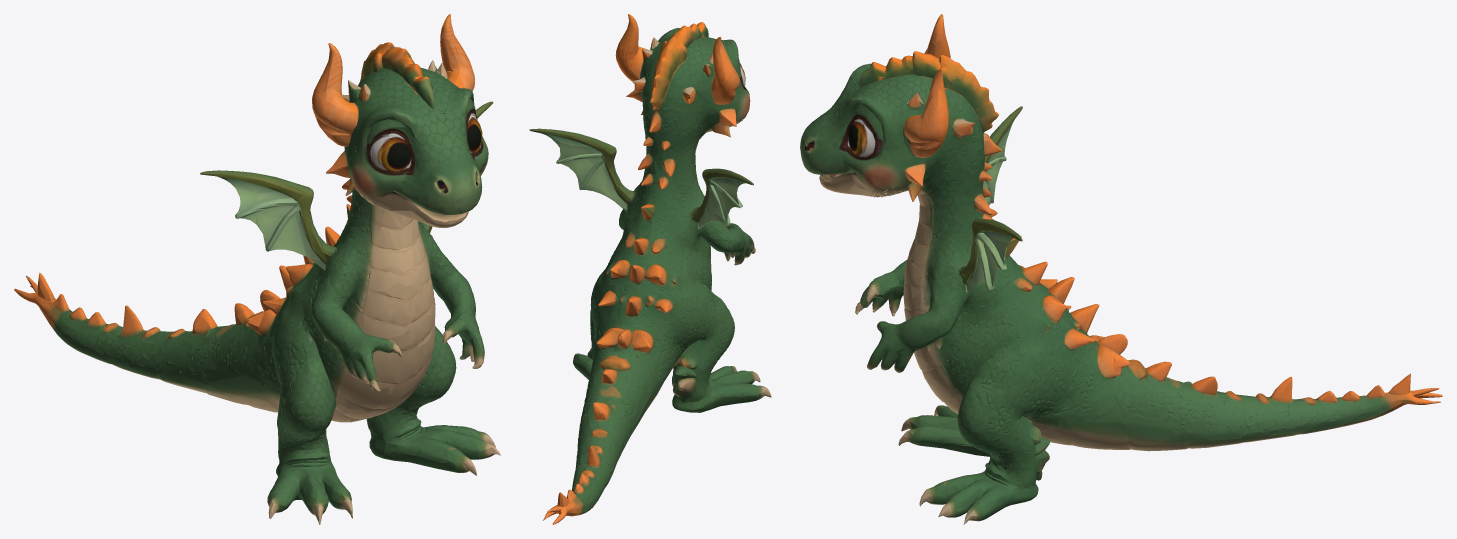
3 views of the same model, side by side, from view 1: azimuth 30°, elevation 25°; view 2: azimuth 150°, elevation 25°; view 3: azimuth 270°, elevation 25° (orthographic). The views are drawn at different scales.
Size of the model in its own units: 0.9298 by 1.4 by 1.88.
Materials: 1 (1 with a texture image).
